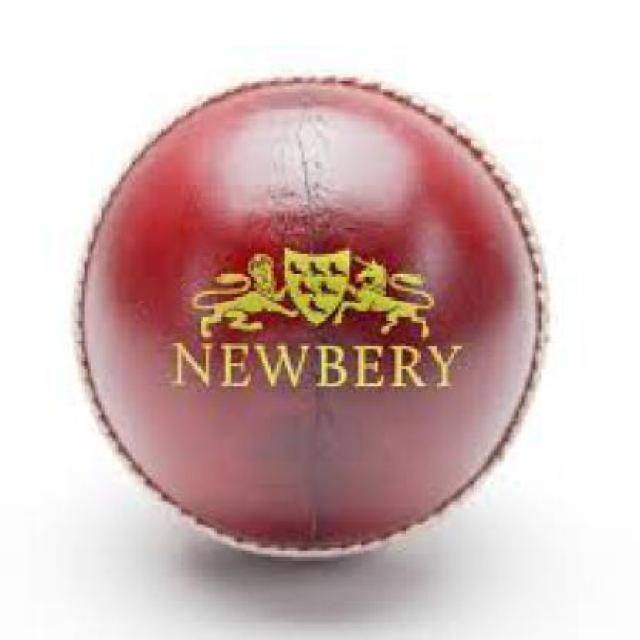ball: (32, 45, 600, 610)
